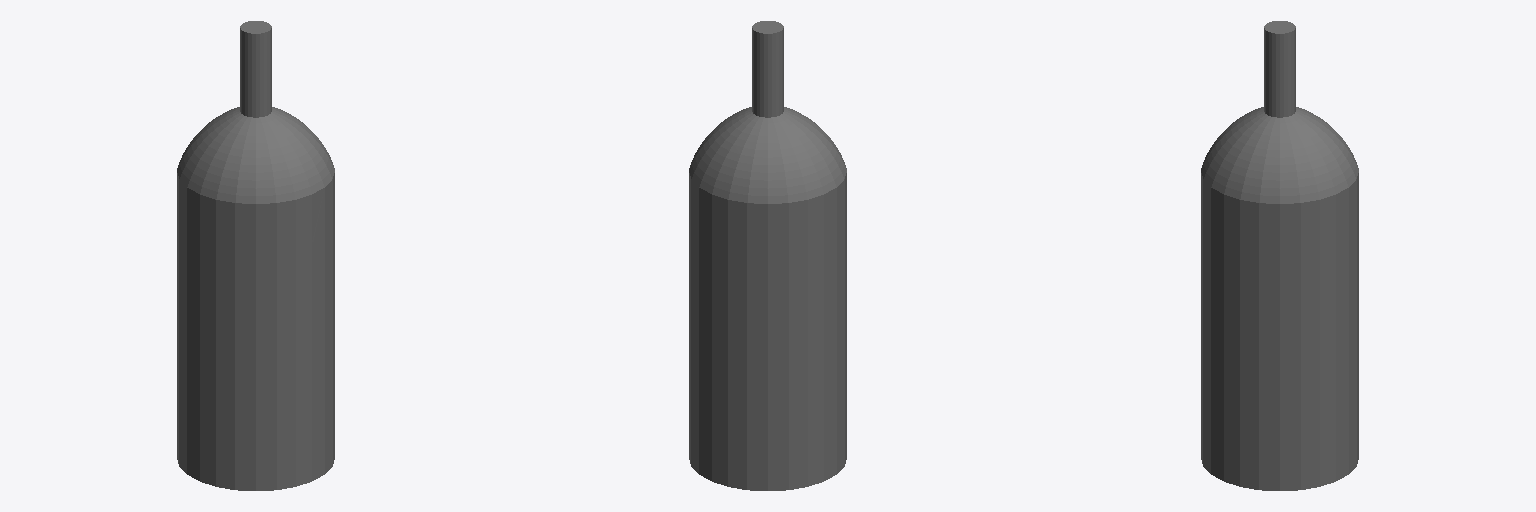
URDF robot description (object):
<?xml version="1.0"?>
<robot name="object">
  <link name="object">
    <visual>
      <origin xyz="0 0 0"/>
      <geometry>
        <mesh
          filename="../../mesh/oakink_virtual/cylinder_bottle_s215.stl" />
      </geometry>
      <material name="mat">
        <color rgba="0.5 0.5 0.5 1"/>
      </material>
    </visual>

    <collision>
      <origin xyz="0 0 0"/>
      <geometry>
        <mesh
          filename="../../mesh/oakink_virtual/cylinder_bottle_s215.stl" />
      </geometry>
    </collision>
  </link>
</robot>

--- Render facts (derived) ---
3 views of the same robot in one strip: view 1: azimuth 30°, elevation 25°; view 2: azimuth 150°, elevation 25°; view 3: azimuth 270°, elevation 25° (orthographic).
Model object with 1 links and 0 joints (none), rooted at object, posed all joints at 0.
Visible links, largest first — view 1: object; view 2: object; view 3: object.
Boxes of the visible links, left/top/right/bottom form: object: left=177, top=21, right=334, bottom=490; object: left=689, top=21, right=846, bottom=490; object: left=1201, top=21, right=1358, bottom=490.
Size in the robot's own frame: 0.0457 by 0.0457 by 0.1371 metres.
1 mesh visuals loaded from 1 distinct referenced files (1 binary STL).